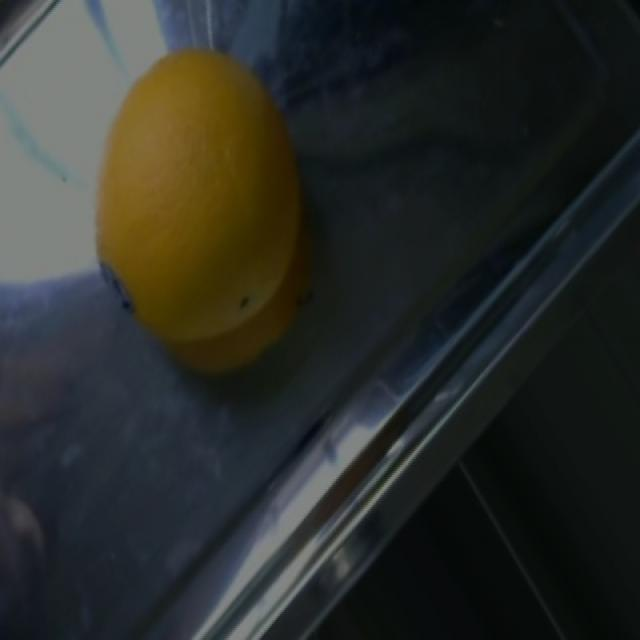Fruit: (70, 24, 322, 403)
